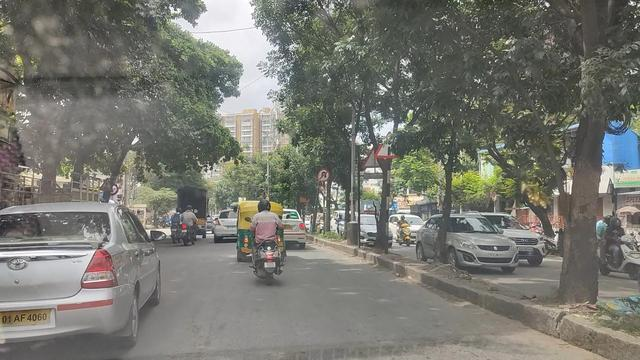LMV: (6, 207, 162, 356)
